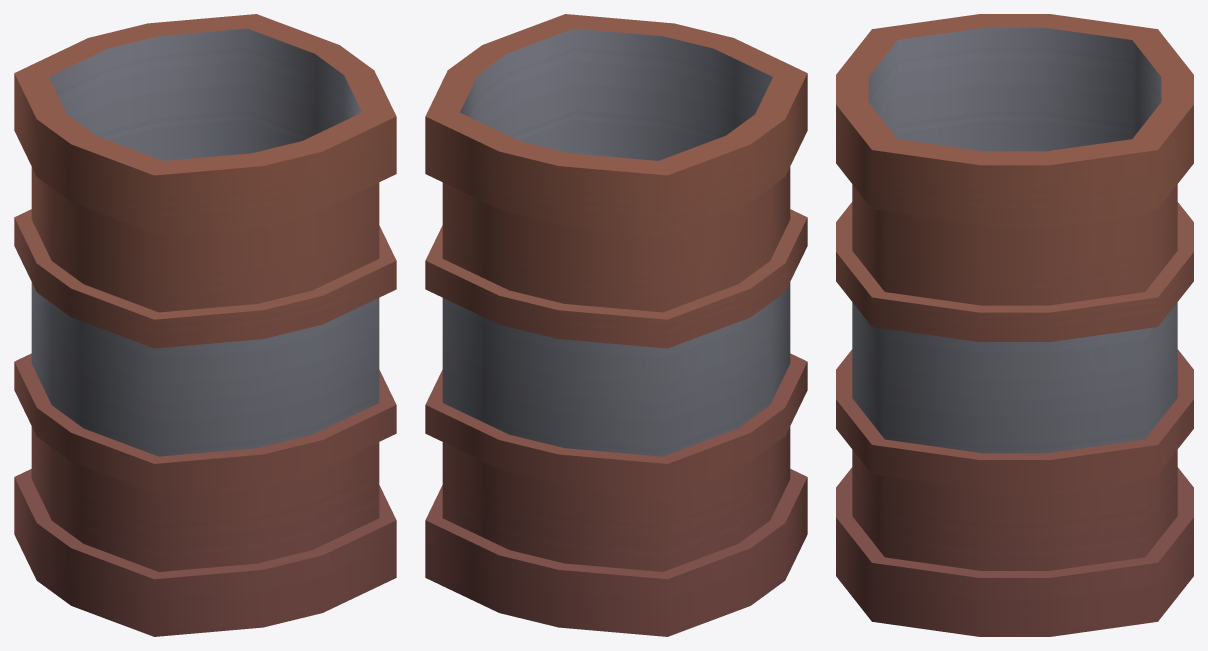
File: barrel_open.glb
3 views of the same model, side by side, from view 1: azimuth 30°, elevation 25°; view 2: azimuth 150°, elevation 25°; view 3: azimuth 270°, elevation 25° (orthographic). The views are drawn at different scales.
Parts seen in each view (by area): view 1: barrel-open; view 2: barrel-open; view 3: barrel-open.
Boxes of the visible parts, x1,y1,x2,y2 form: barrel-open: (14, 14, 396, 636); barrel-open: (425, 14, 807, 636); barrel-open: (836, 14, 1193, 636).
Size of the model in its own units: 0.6267 by 0.9116 by 0.6267.
Materials: 1 (1 with a texture image).
